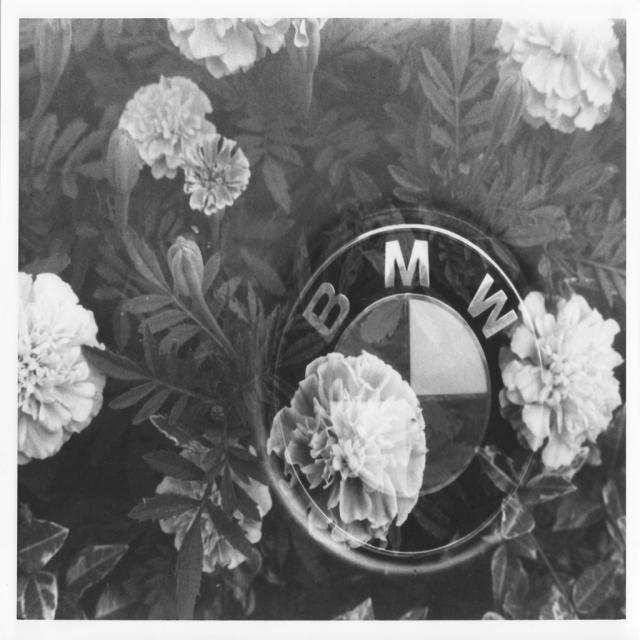bmw: (274, 223, 523, 556)
